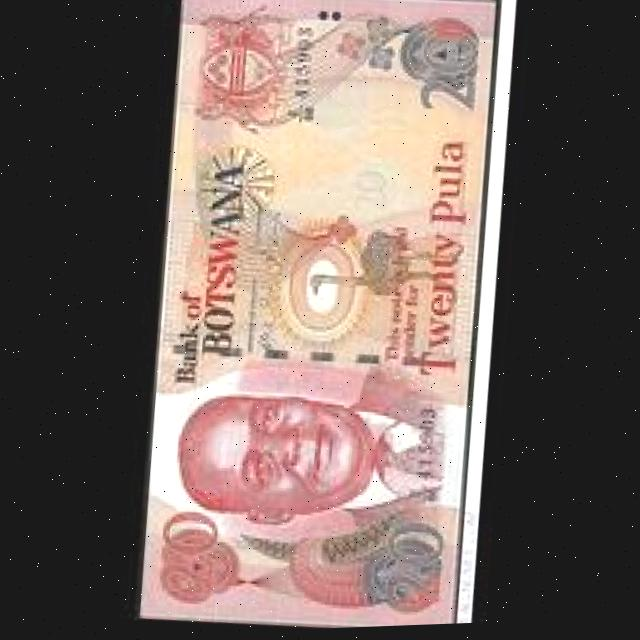banknote: (124, 0, 513, 636)
